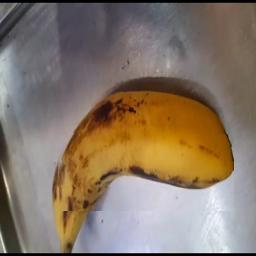Banana Semirotten: (54, 65, 234, 211)
